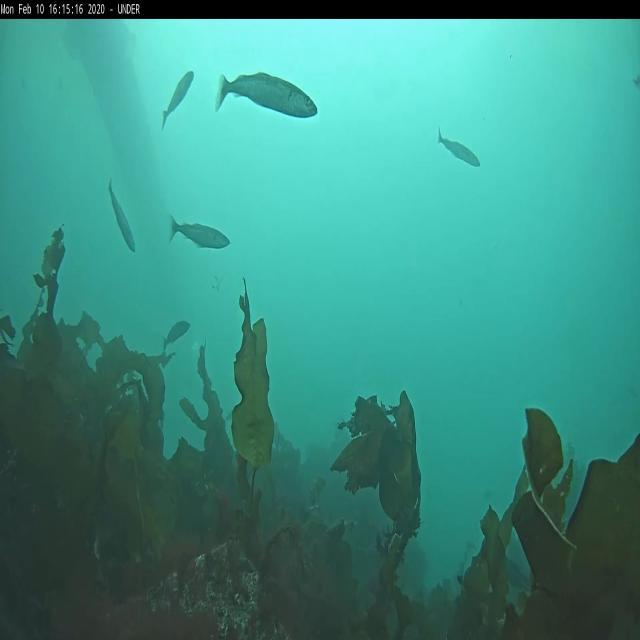fish: (219, 74, 318, 118), (169, 216, 230, 253), (108, 176, 136, 254), (162, 68, 194, 132), (438, 126, 480, 168), (162, 321, 191, 352)
